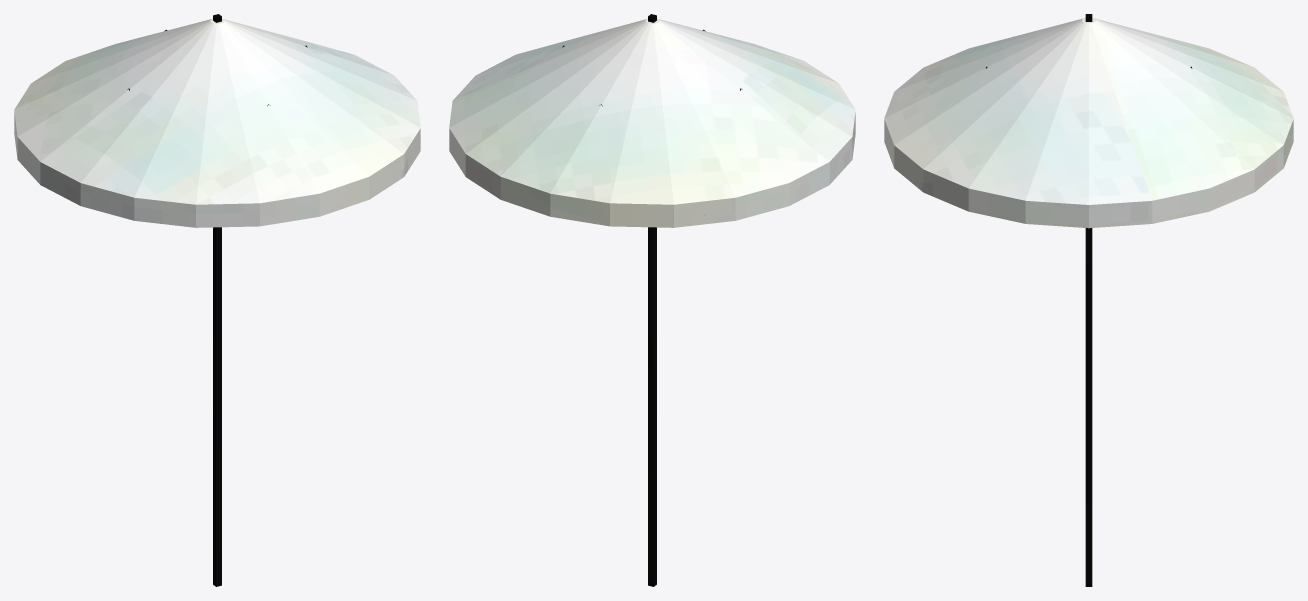
The model's file is Sombrilla.fbx.
The picture shows the model from 3 angles, left to right: view 1: azimuth 30°, elevation 25°; view 2: azimuth 150°, elevation 25°; view 3: azimuth 270°, elevation 25°; orthographic projection.
Parts seen in each view (by area): view 1: Chair.002; view 2: Chair.002; view 3: Chair.002.
Part boxes in pixels (left/top/right/bottom): Chair.002: left=14, top=14, right=420, bottom=586; Chair.002: left=449, top=14, right=855, bottom=586; Chair.002: left=884, top=14, right=1293, bottom=586.
Size of the model in its own units: 114 by 175 by 114.
1 material, 1 textured.
